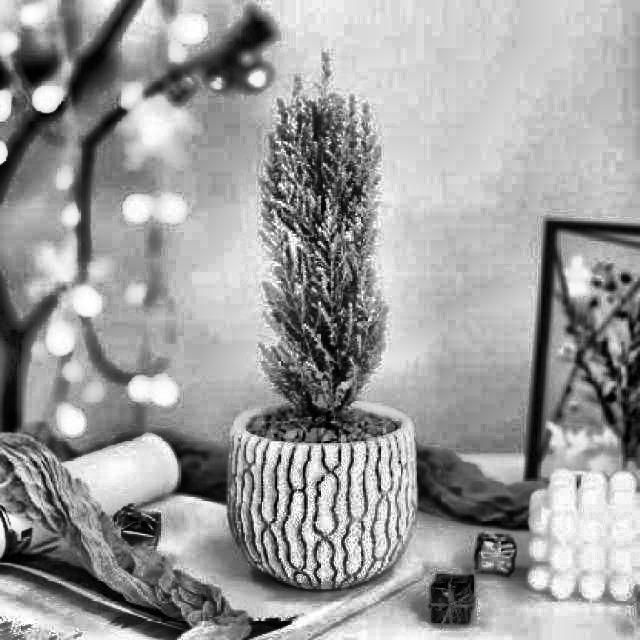plants: (252, 70, 394, 584)
